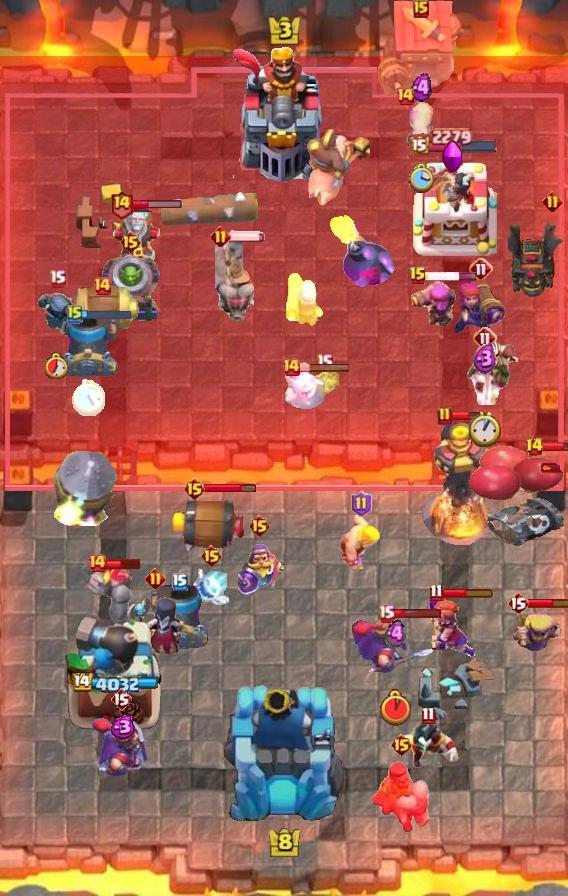bar: (441, 587, 494, 599), (81, 308, 132, 320), (204, 483, 257, 494), (425, 271, 478, 282), (299, 362, 351, 373), (132, 199, 183, 210), (392, 608, 442, 619), (105, 557, 142, 570), (528, 597, 568, 609), (228, 230, 266, 242), (451, 410, 486, 422), (541, 440, 568, 453)
bar-level: (109, 189, 134, 220), (473, 326, 497, 350), (469, 257, 493, 281), (390, 733, 413, 757), (200, 544, 223, 568), (248, 514, 271, 538), (183, 477, 206, 501), (119, 230, 142, 254), (351, 491, 372, 517), (110, 687, 132, 711), (507, 591, 529, 615), (145, 568, 166, 589), (210, 226, 231, 247), (542, 191, 563, 212), (87, 553, 107, 573), (281, 357, 301, 377), (92, 276, 112, 296), (395, 86, 415, 106), (525, 437, 544, 457), (409, 266, 427, 286), (378, 604, 395, 623), (316, 353, 333, 372), (49, 269, 66, 288), (437, 406, 453, 426), (67, 304, 83, 324), (172, 573, 188, 591), (413, 0, 429, 18), (421, 706, 436, 725), (429, 583, 444, 602)
barbarian: (339, 514, 383, 569)
barbarian-barrel: (168, 494, 248, 554), (64, 285, 140, 335)
barbarian-evolution: (510, 603, 562, 653)
bomb: (324, 213, 396, 287)
cannoneer-tower: (63, 615, 165, 731)
clock: (72, 379, 105, 416), (469, 411, 501, 447), (380, 689, 411, 726), (408, 162, 434, 194), (45, 352, 69, 379)
electro-wizard: (391, 715, 465, 773)
elixir: (473, 343, 497, 375), (107, 715, 136, 739), (385, 619, 406, 650), (411, 73, 432, 103)
evolution-symbol: (441, 140, 463, 174)
firecracker: (407, 276, 459, 330), (284, 270, 326, 328)
firecracker-evolution: (453, 274, 509, 346)
golemite: (78, 560, 148, 626)
hog: (405, 99, 437, 149)
ice-spirit: (283, 363, 327, 409), (193, 566, 229, 606)
ice-wizard: (97, 204, 177, 282)
king-tower: (221, 682, 347, 826), (230, 45, 338, 181)
knight-evolution: (235, 543, 284, 597)
lava-pup: (307, 370, 341, 398)
mini-pekka: (35, 291, 79, 339)
mortar: (150, 585, 210, 649), (58, 313, 118, 377)
mortar-evolution: (98, 254, 162, 324)
night-witch: (126, 593, 184, 663)
queen-tower: (409, 154, 497, 256)
ram-rider: (371, 760, 431, 834), (215, 238, 259, 324)
the-log: (160, 190, 260, 228)
tower-bar: (408, 127, 499, 155), (70, 673, 158, 695)
valkyrie-evolution: (422, 593, 478, 659)
